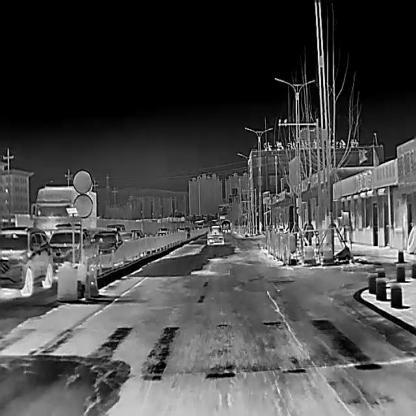car: (29, 186, 96, 268), (0, 226, 51, 296), (49, 229, 99, 279), (91, 228, 121, 255), (206, 226, 224, 243), (222, 221, 229, 231)
